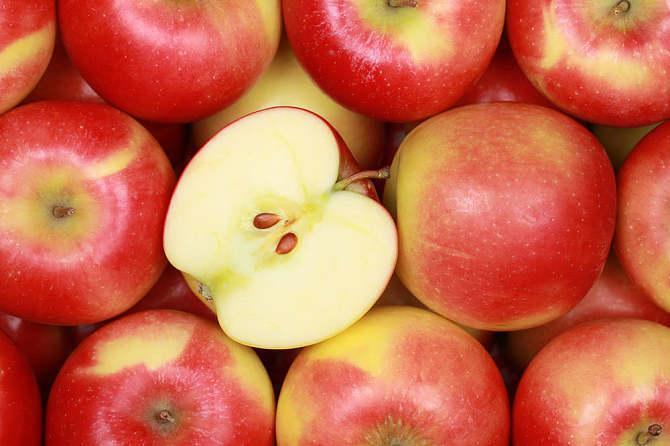apple: (380, 103, 617, 325), (2, 97, 181, 346), (276, 306, 511, 444), (42, 307, 279, 441), (52, 1, 278, 123), (279, 1, 505, 123), (510, 1, 664, 131), (510, 316, 670, 440), (1, 1, 58, 114)
